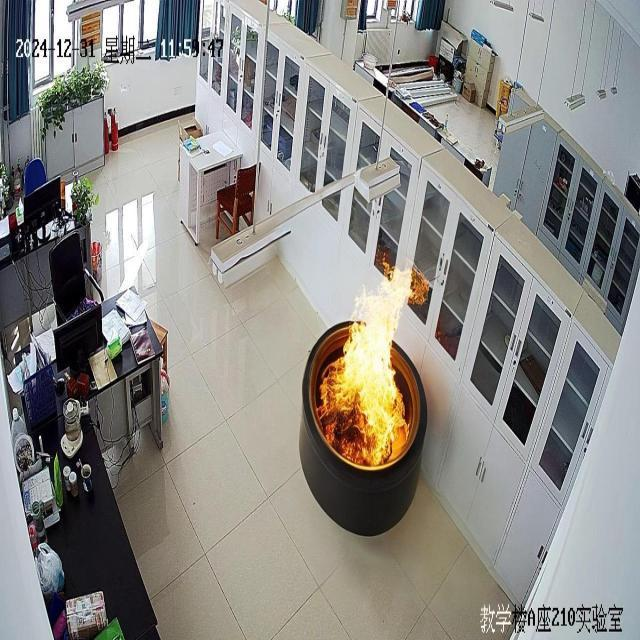smoke: (314, 261, 421, 471)
